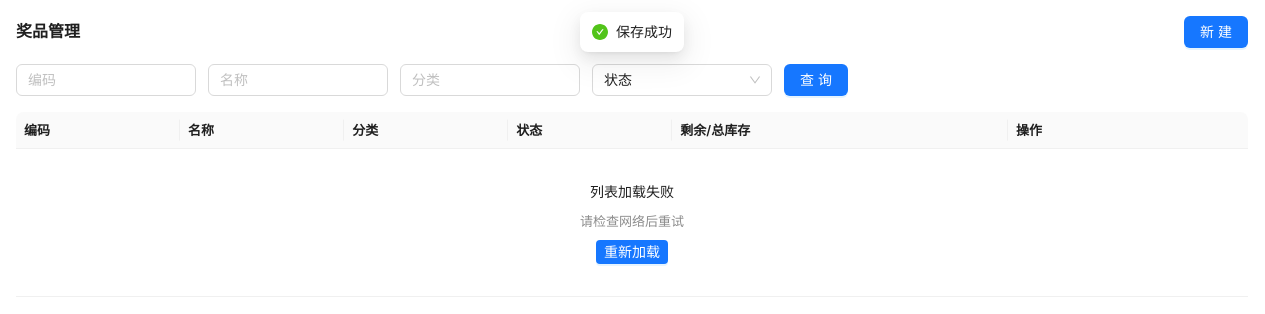
RewardPrizePage list failure state › retries from the failure state and restores the success path
Expected: the element with test id "list-load-failure" is shown, [580, 183, 684, 264]
Click the button with test id "list-load-reload".
click(632, 252)  # box [596, 240, 668, 264]
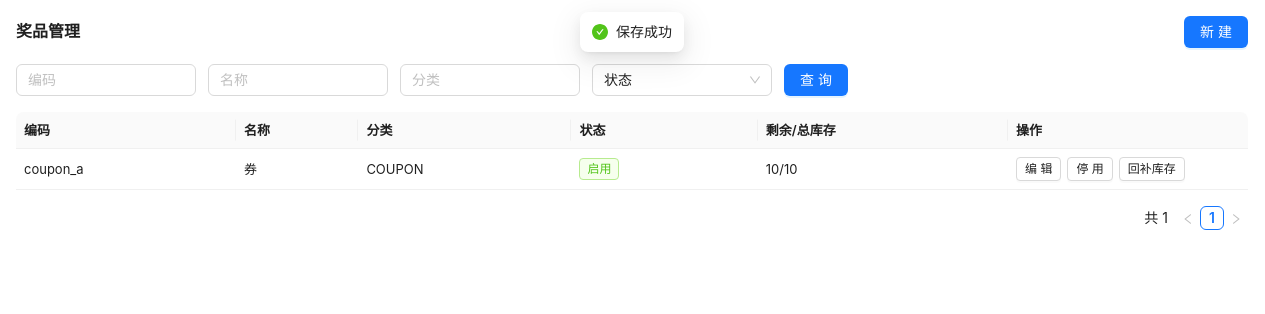
Now the element with test id "prize-table" shows "coupon_a", box [24, 161, 84, 177]
